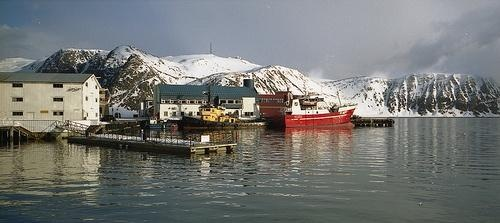boat: (284, 99, 357, 130)
